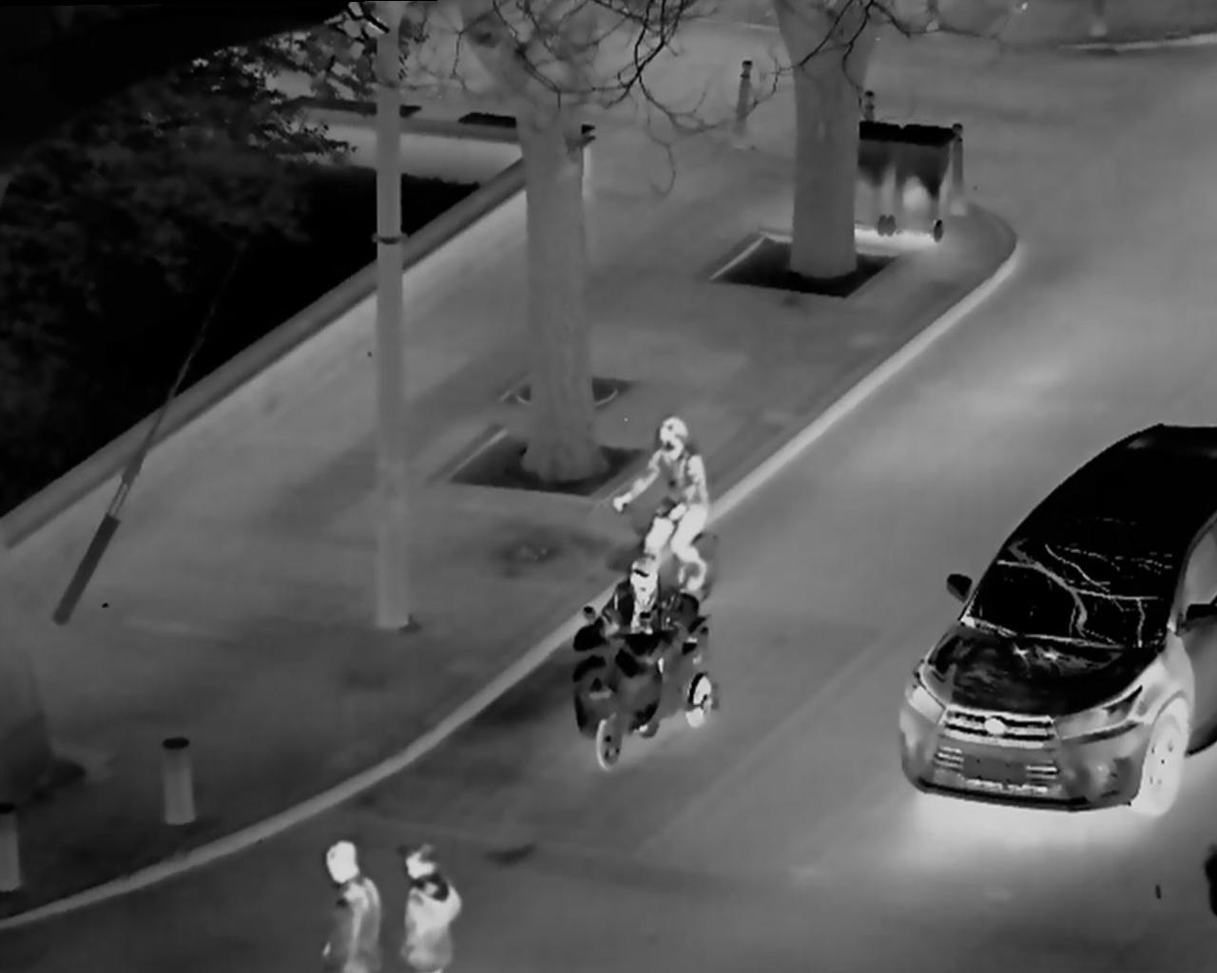person: (575, 552, 707, 744), (614, 406, 738, 592), (391, 830, 478, 973), (305, 834, 393, 973)
